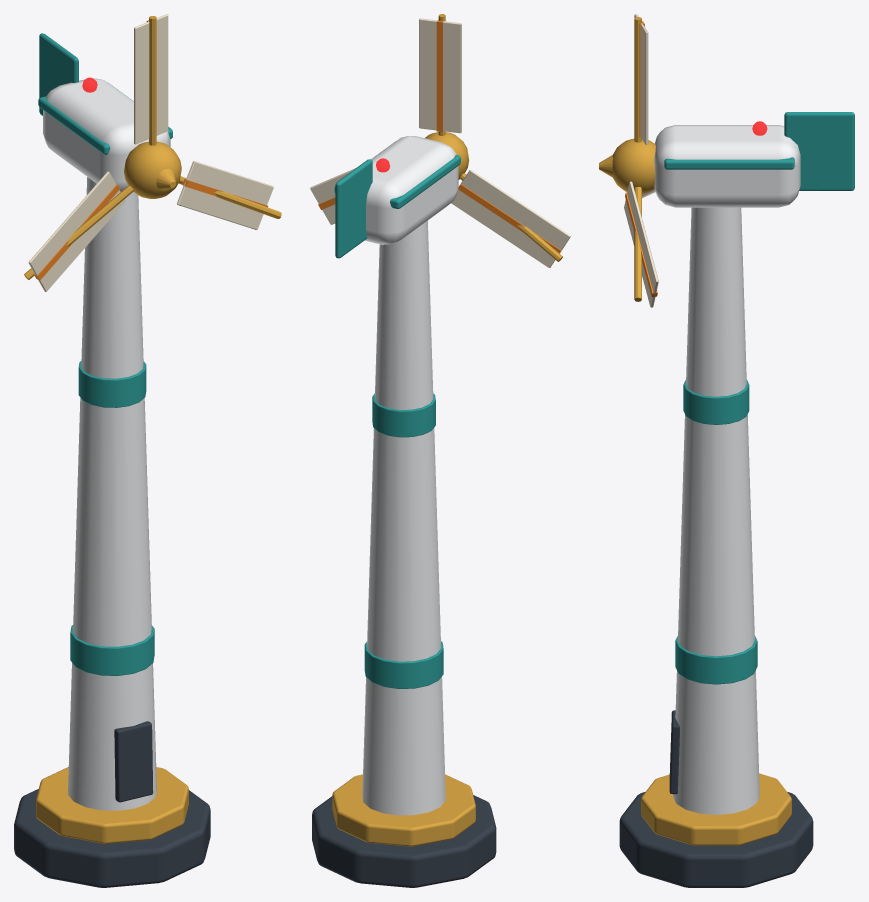
The model's file is wind_turbine.glb.
3 views of the same model, side by side, from view 1: azimuth 30°, elevation 25°; view 2: azimuth 150°, elevation 25°; view 3: azimuth 270°, elevation 25° (orthographic). The views are drawn at different scales.
Visible parts, largest first — view 1: wind_turbine_body, rotor; view 2: wind_turbine_body, rotor; view 3: wind_turbine_body, rotor.
Part boxes in pixels (x1=…): wind_turbine_body: x1=14, y1=33, x2=210, y2=887; rotor: x1=24, y1=14, x2=281, y2=291; wind_turbine_body: x1=312, y1=136, x2=496, y2=887; rotor: x1=310, y1=14, x2=570, y2=267; wind_turbine_body: x1=619, y1=112, x2=854, y2=887; rotor: x1=599, y1=14, x2=658, y2=307.
Size of the model in its own units: 2.69 by 8.45 by 2.36.
